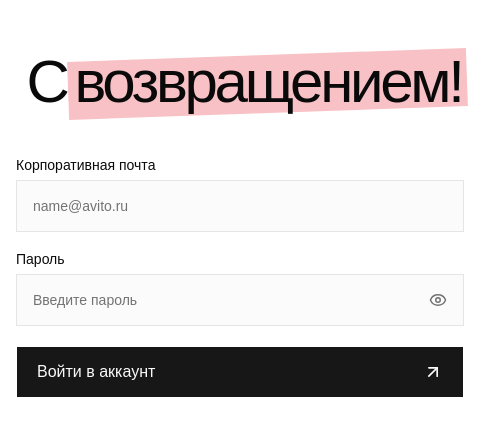
it: JWT authentication and protected routes › shows the login error for server-error@avito.ru / password123
Type "server-error@avito.ru" into the field labelled "Корпоративная почта" at (240, 206), box [16,180,464,232]
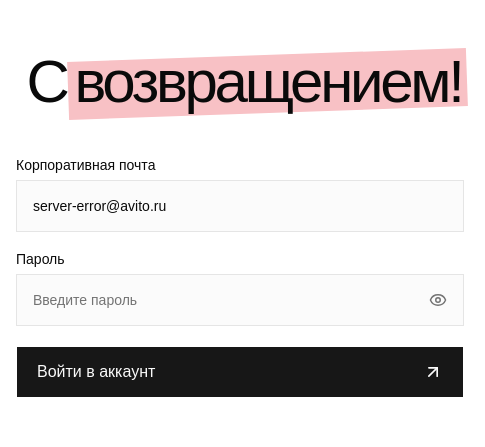
Type "password123" into the password field labelled "Пароль" at (240, 300), box [16,274,464,326]
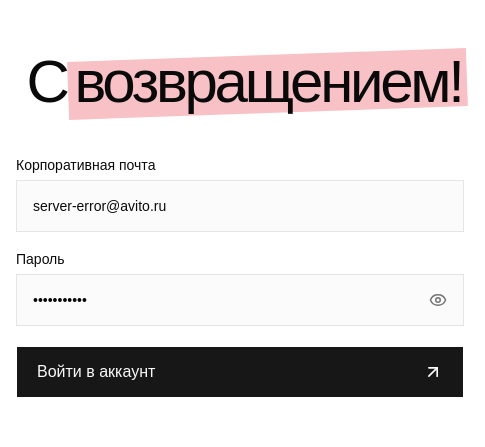
Click the button "Войти в аккаунт" at (96, 372), box [16,346,464,398]
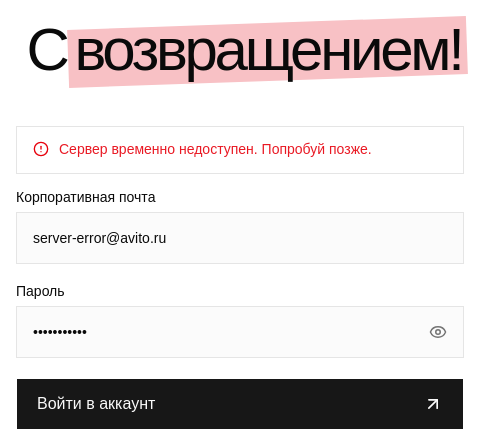
Expected: the button "Войти в аккаунт" is enabled, [16,378,464,430]
Expected: the message shows "Сервер временно недоступен", [59,141,372,157]
